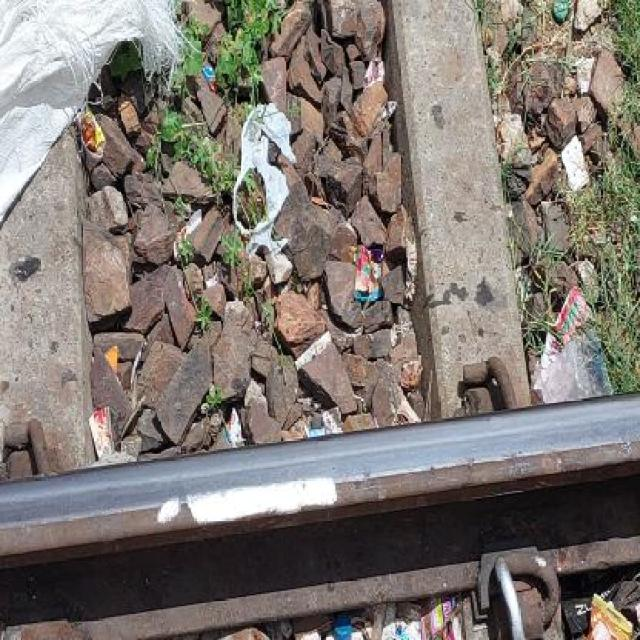defective: (0, 373, 638, 638)
